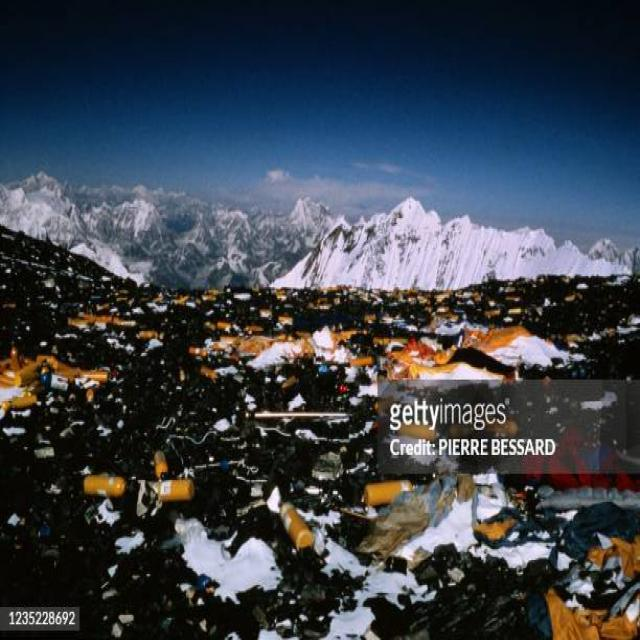trash: (21, 254, 617, 613)
